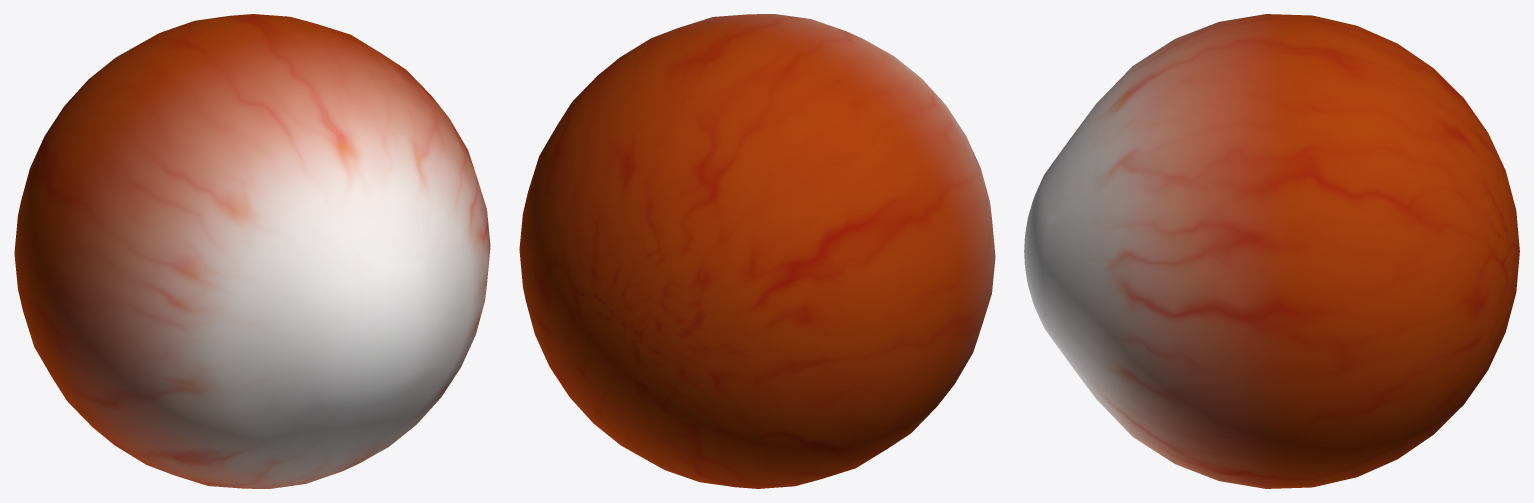
Rendered from Lowpoly.obj.
3 views of the same model, side by side, from view 1: azimuth 30°, elevation 25°; view 2: azimuth 150°, elevation 25°; view 3: azimuth 270°, elevation 25° (orthographic).
Parts seen in each view (by area): view 1: Eye; view 2: Eye; view 3: Eye.
Boxes of the visible parts, <box> form: Eye: <box>14,14,490,488</box>; Eye: <box>519,14,995,488</box>; Eye: <box>1024,14,1519,488</box>.
Size of the model in its own units: 1.98 by 1.98 by 2.06.
